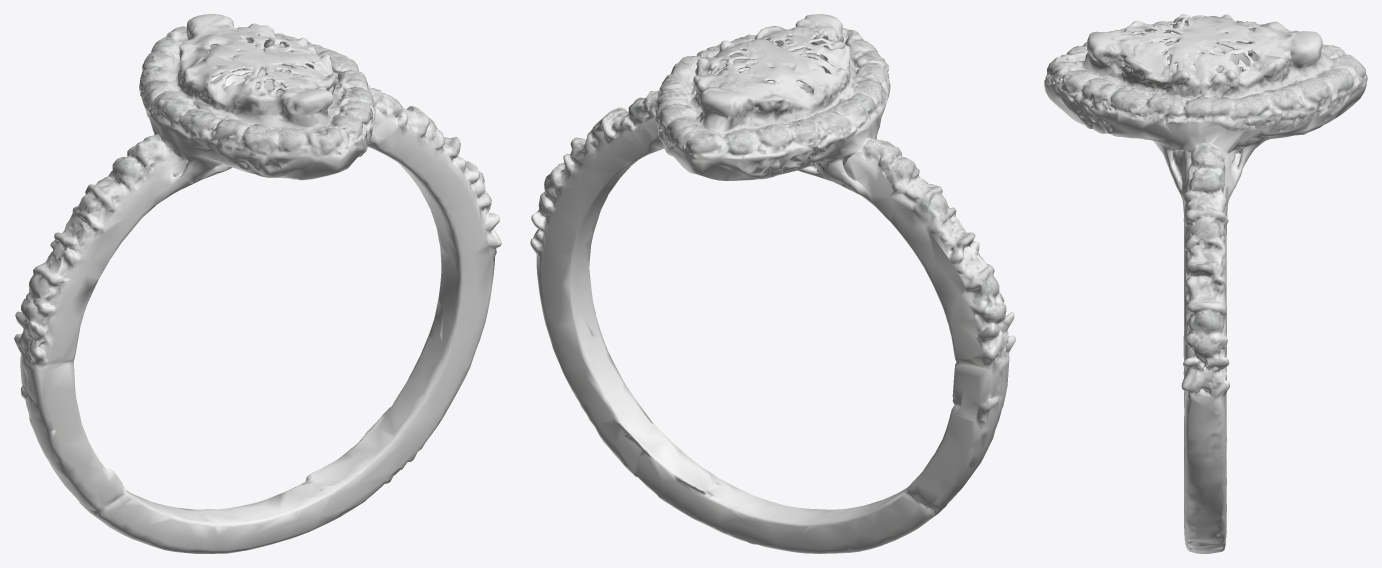
The model's file is ring.glb.
3 renders of one model, left to right at view 1: azimuth 30°, elevation 25°; view 2: azimuth 150°, elevation 25°; view 3: azimuth 270°, elevation 25°, orthographic.
Visible parts, largest first — view 1: mesh_0; view 2: mesh_0; view 3: mesh_0.
Part boxes in pixels (left/top/right/bottom): mesh_0: left=14, top=14, right=501, bottom=553; mesh_0: left=530, top=14, right=1015, bottom=553; mesh_0: left=1044, top=14, right=1367, bottom=553.
Size of the model in its own units: 2 by 2 by 1.2.
Materials: 1 (1 with a texture image).
